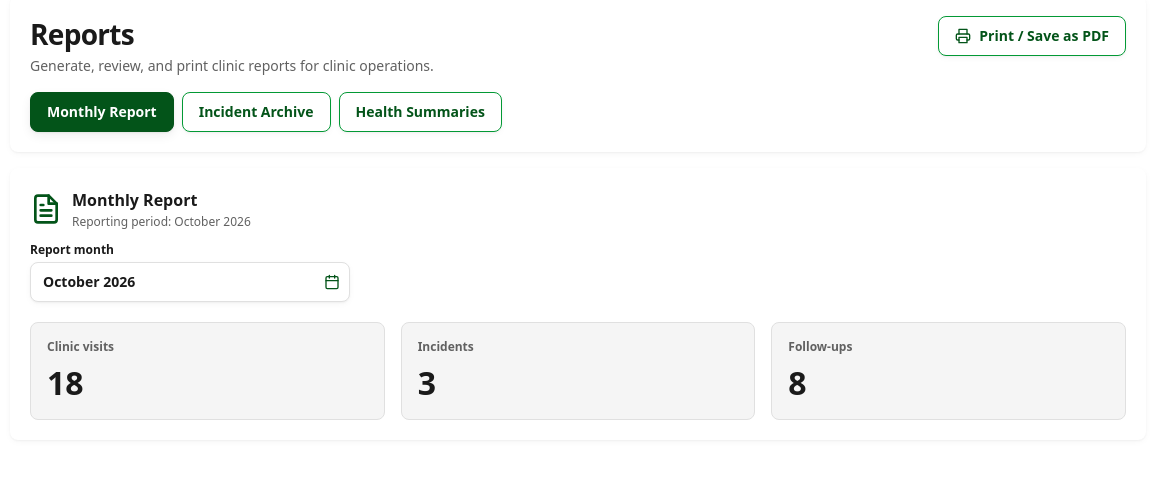
Test: Reports › uses the linked student’s actual Student Number in the incident archive
The image size is (1157, 493).
Click the tab "Incident Archive" at [256, 112], box 182,92 -> 330,132
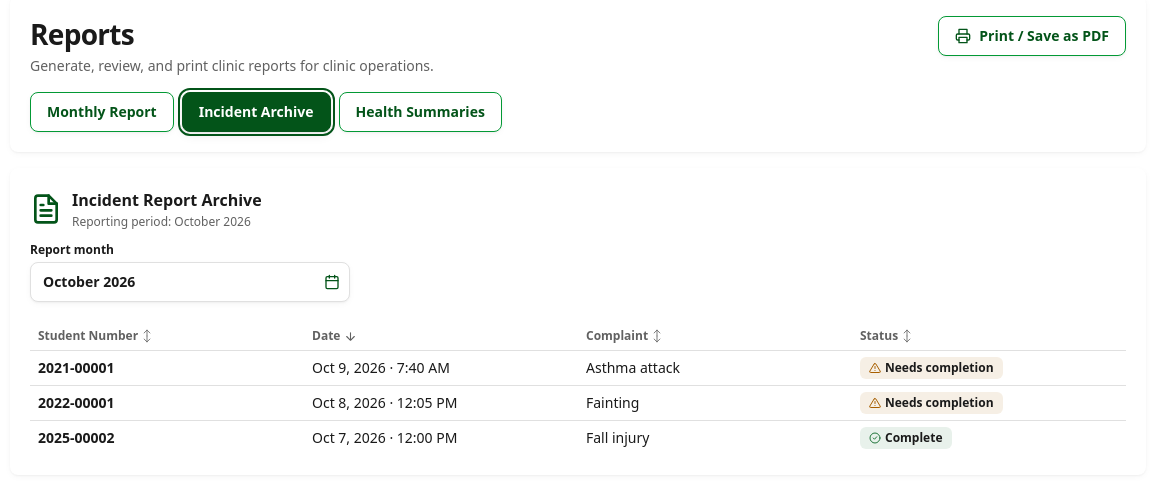
Expected: the column heading "2021-00001" is shown, 30,351 -> 304,386
